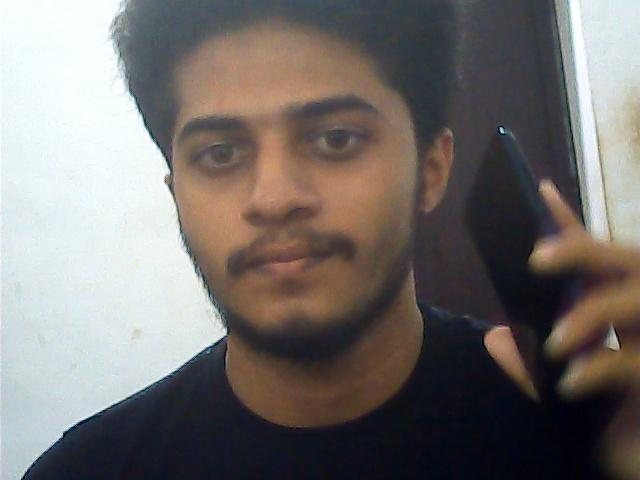PhoneUse: (459, 126, 601, 402)
SafeDriving: (293, 106, 381, 166), (180, 124, 262, 180)
